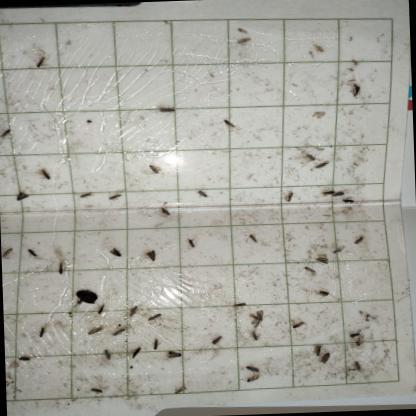prays_oleae: (286, 310, 306, 338), (295, 260, 318, 284), (160, 94, 178, 124), (218, 111, 240, 134), (311, 152, 333, 175), (31, 48, 49, 76), (164, 344, 188, 364), (77, 182, 94, 208), (88, 377, 108, 398), (185, 229, 199, 259), (329, 236, 346, 260), (197, 181, 210, 212), (86, 318, 106, 338), (243, 355, 262, 376), (316, 349, 338, 367), (38, 162, 52, 190), (244, 372, 262, 393), (352, 228, 368, 250), (329, 186, 346, 206), (284, 184, 296, 212), (248, 324, 264, 345), (343, 324, 364, 340), (339, 196, 359, 212), (110, 320, 126, 340), (106, 187, 121, 208), (304, 146, 317, 170), (312, 289, 337, 301), (125, 299, 137, 324), (314, 249, 328, 270), (150, 334, 162, 358), (348, 358, 364, 376), (147, 159, 160, 181), (1, 244, 15, 264), (0, 123, 15, 141), (16, 349, 31, 366), (148, 312, 164, 327), (312, 340, 324, 360), (157, 205, 174, 219), (102, 344, 113, 365), (320, 184, 334, 200), (96, 298, 108, 314), (132, 346, 142, 364)
